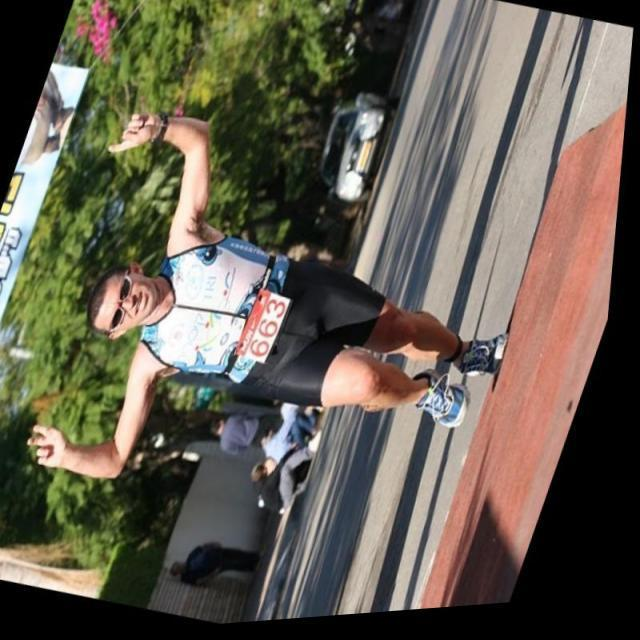dorsal: (233, 285, 304, 372)
